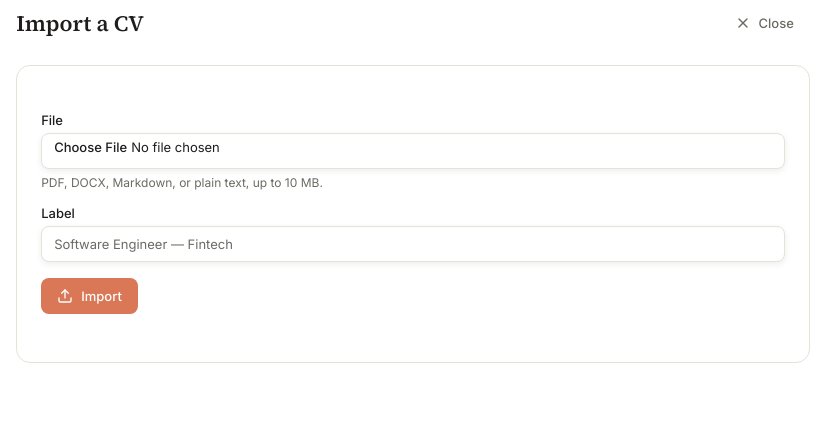
NewCvVersionPage — Import form › shows inline validation when submitting with no label and no file
Click the button "Import". click: (90, 296)
box: [41,278,138,314]
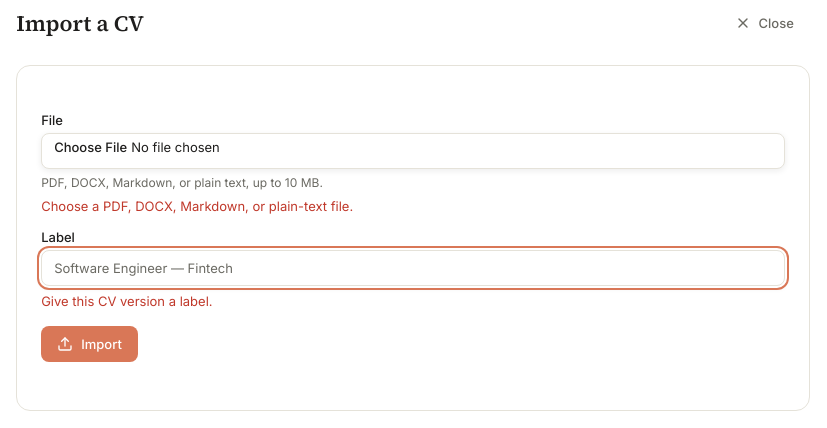
Check: the text "Give this CV version a label." is shown, box [41,293,213,309]
Check: the text "Choose a PDF, DOCX, Markdown, or plain-text file." is shown, box [41,198,353,214]
